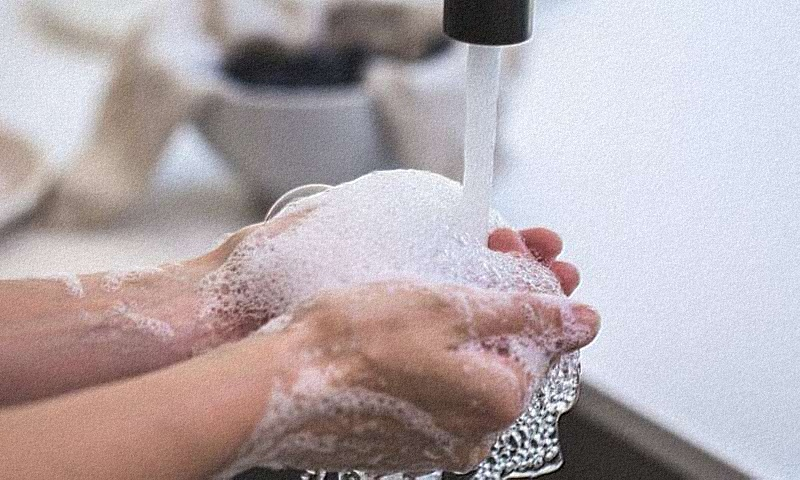washing hand: (264, 17, 661, 463)
